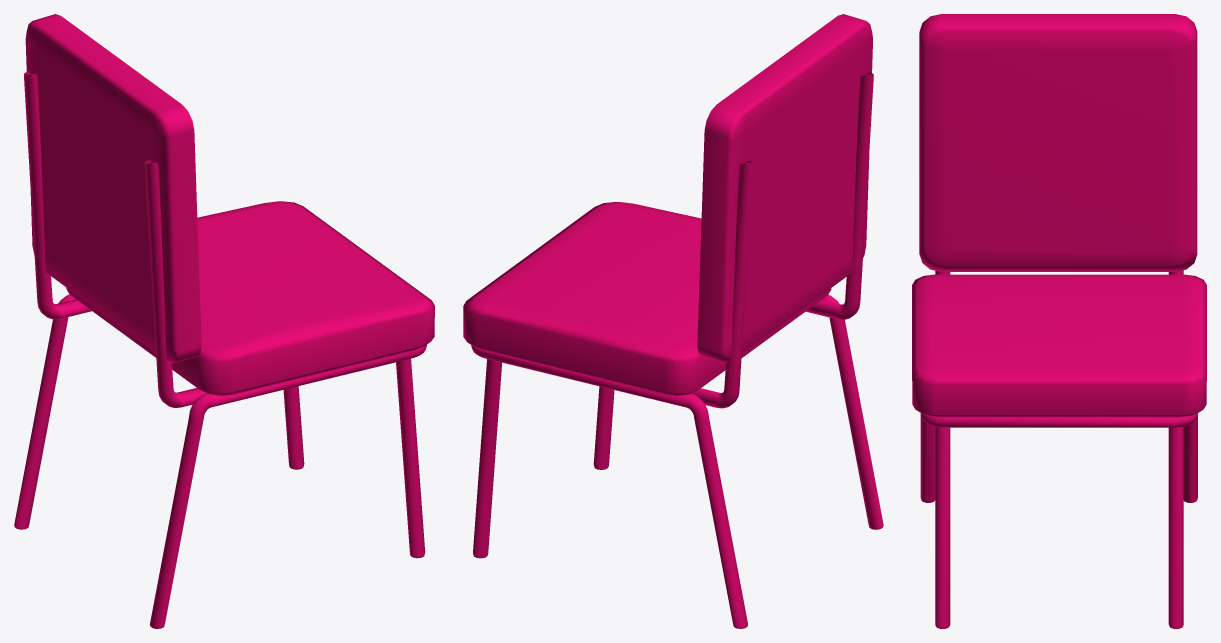
Rendered from Chair_02_Lod0.fbx.
The picture shows the model from 3 angles, left to right: view 1: azimuth 30°, elevation 25°; view 2: azimuth 150°, elevation 25°; view 3: azimuth 270°, elevation 25°; orthographic projection. The views are drawn at different scales.
Parts seen in each view (by area): view 1: Chair_02_Lod0; view 2: Chair_02_Lod0; view 3: Chair_02_Lod0.
Part boxes in pixels (x1,y1,x2,y2): Chair_02_Lod0: (14,14,434,628); Chair_02_Lod0: (463,14,883,628); Chair_02_Lod0: (912,14,1206,628).
Size of the model in its own units: 52.23 by 89.29 by 48.54.
